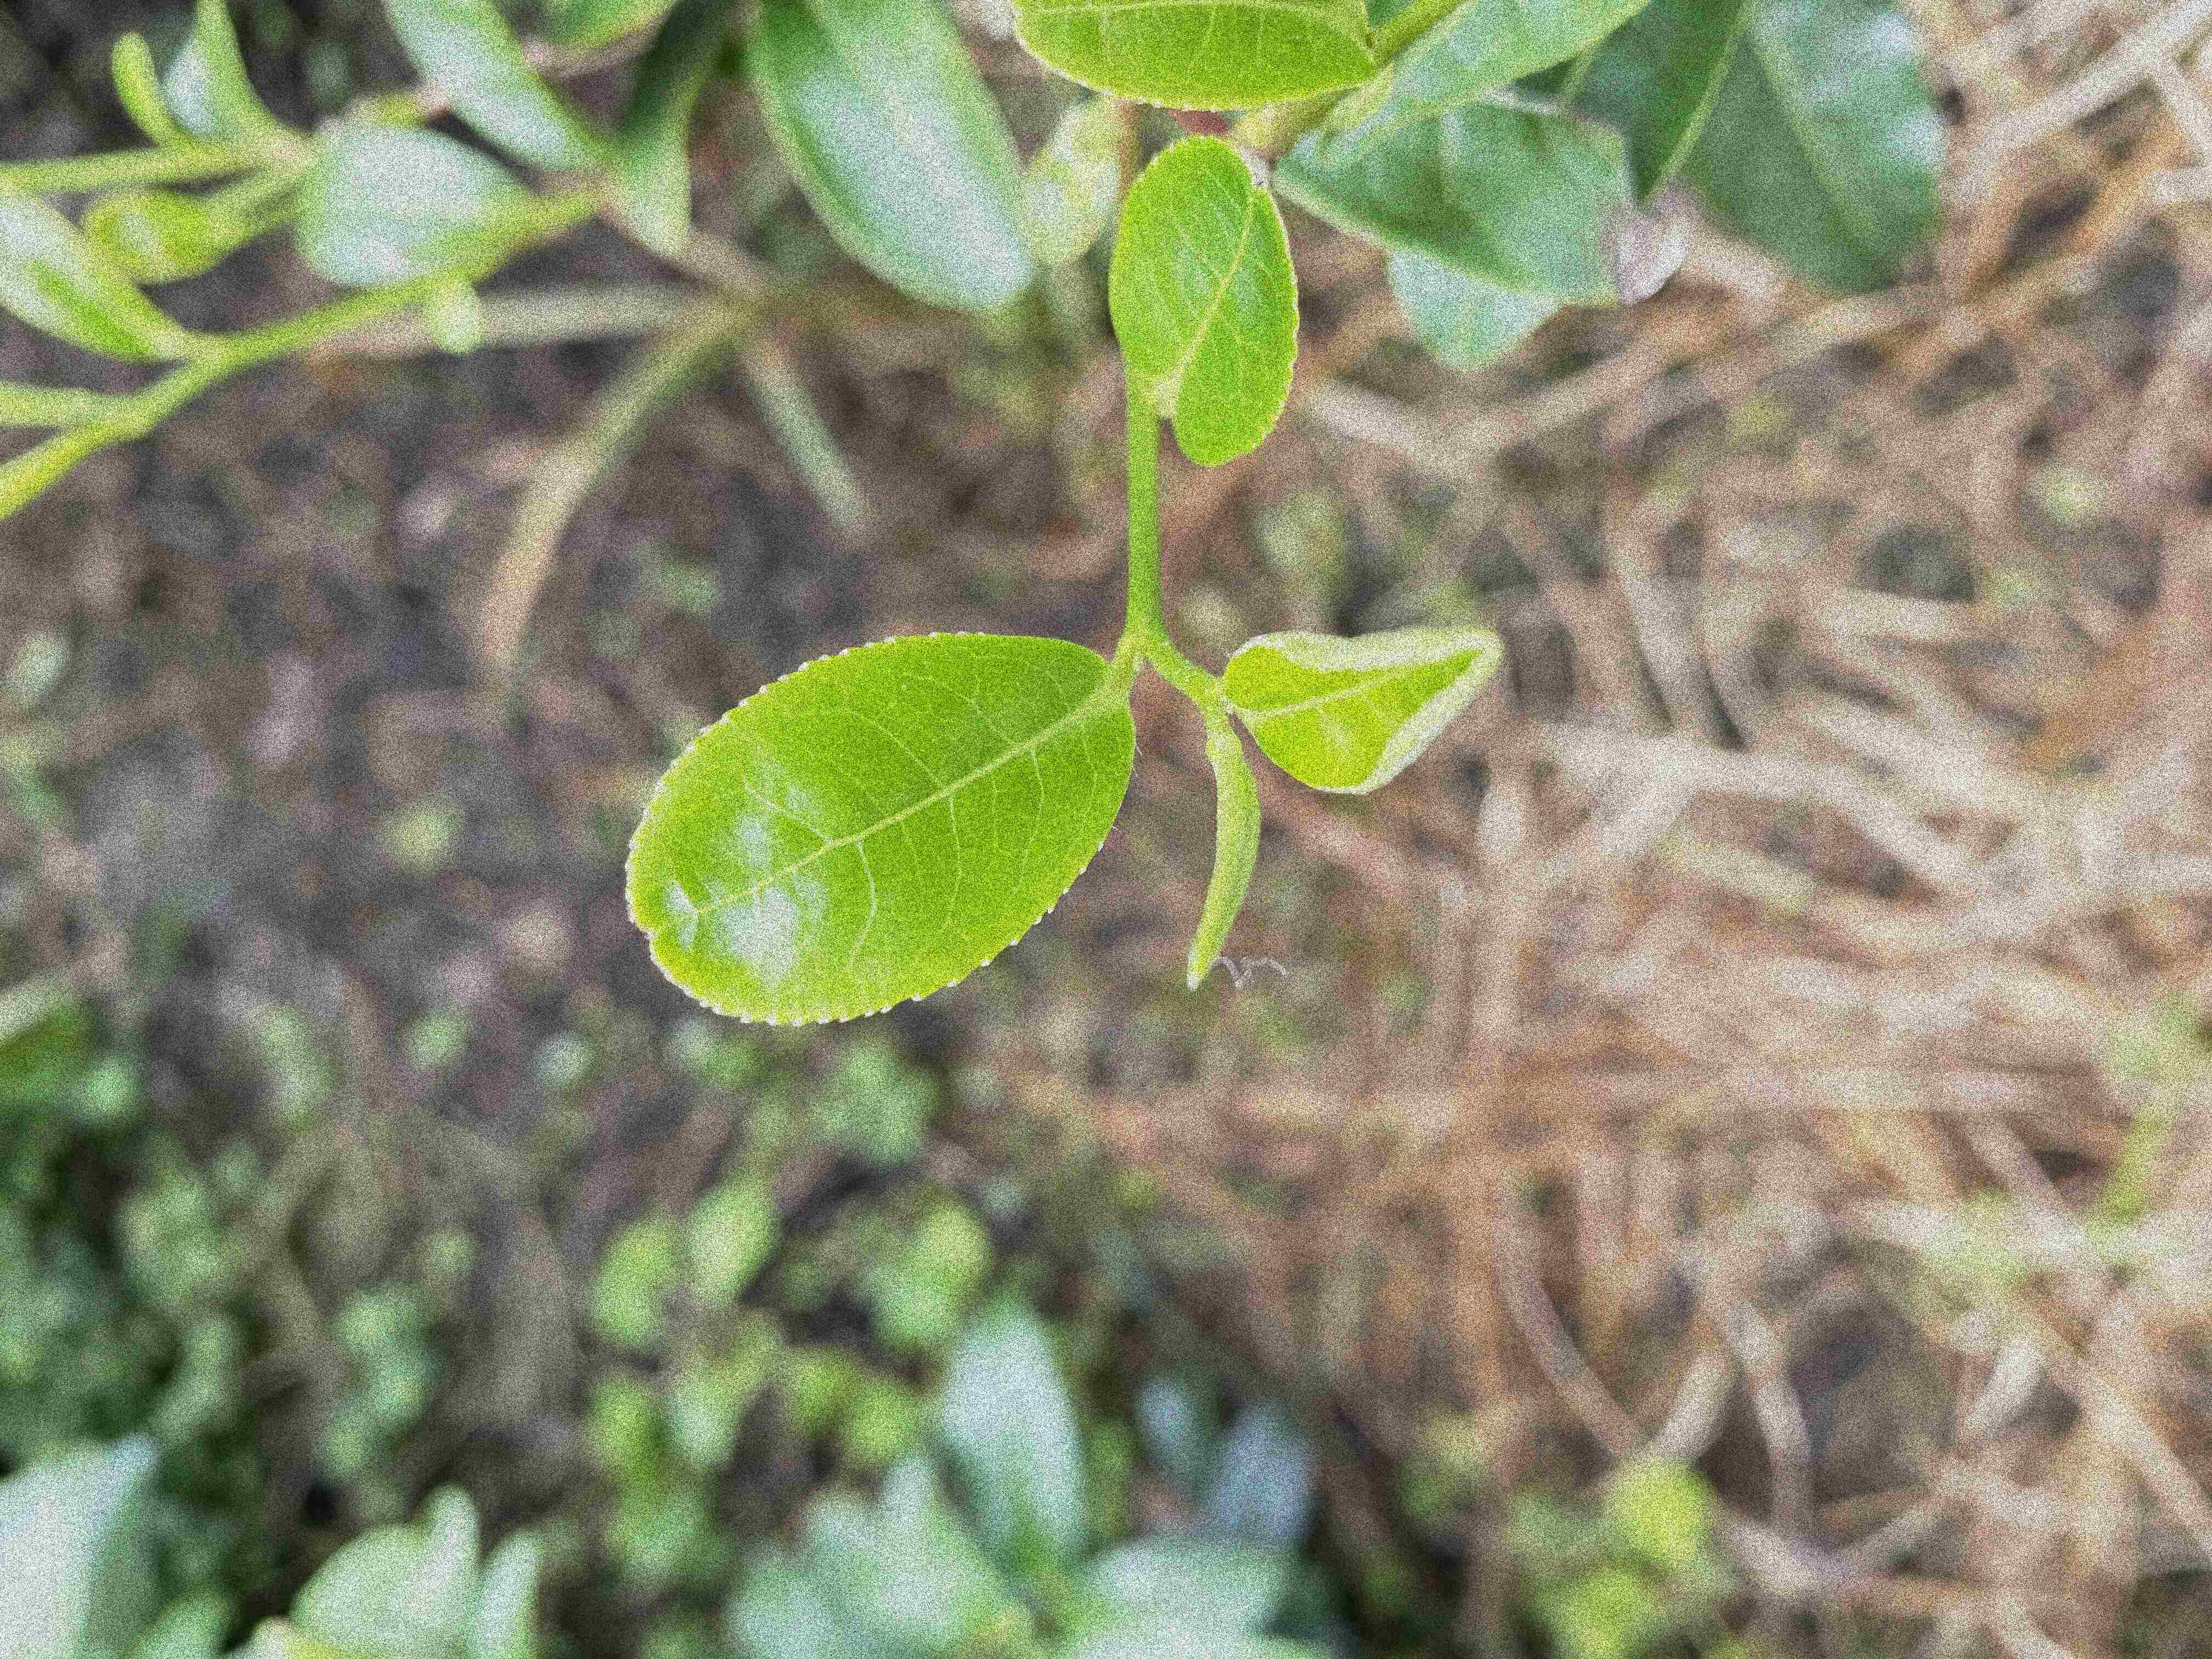healthy: (618, 631, 1137, 1028), (1104, 129, 1305, 471), (1224, 622, 1503, 795)
tanju_high: (1277, 78, 1689, 310)
